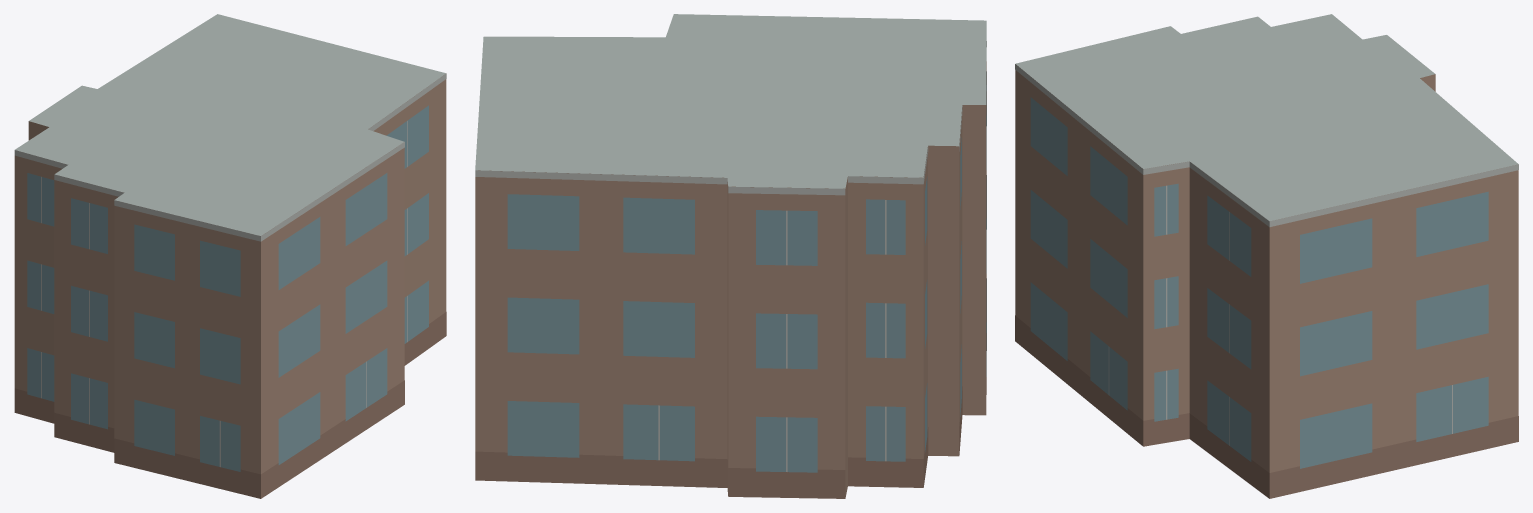
Rendered from survey-upis-33009203.glb.
3 renders of one model, left to right at view 1: azimuth 30°, elevation 25°; view 2: azimuth 150°, elevation 25°; view 3: azimuth 270°, elevation 25°, orthographic. The views are drawn at different scales.
Visible parts, largest first — view 1: survey-upis-33009203.tmp; view 2: survey-upis-33009203.tmp; view 3: survey-upis-33009203.tmp.
Boxes of the visible parts, <box> form: survey-upis-33009203.tmp: <box>14,14,446,498</box>; survey-upis-33009203.tmp: <box>475,14,986,498</box>; survey-upis-33009203.tmp: <box>1015,14,1518,498</box>.
Bounding box in the file's own units: 18.44 × 11.5 × 18.92.
